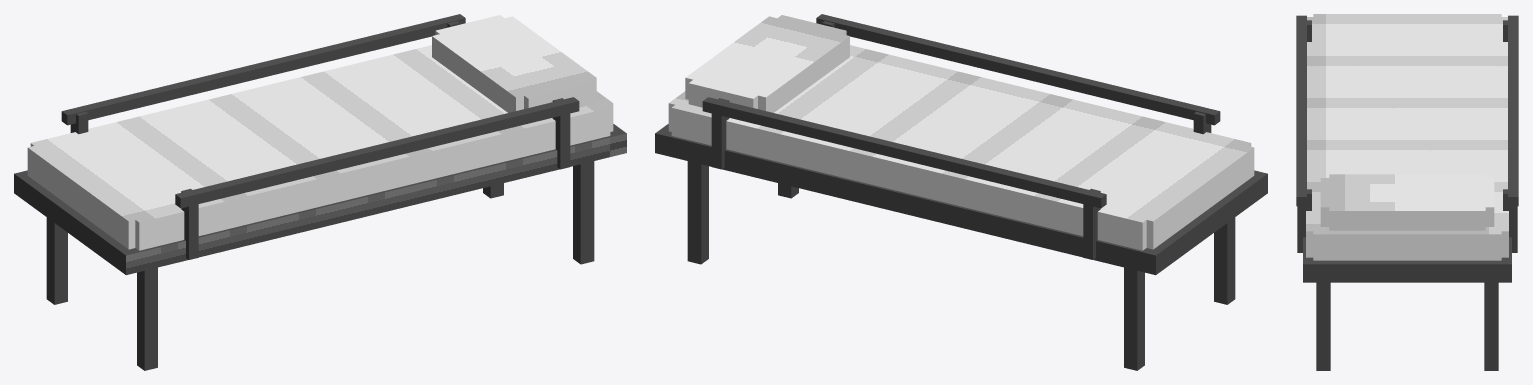
Rendered from station_bed.glb.
3 views of the same model, side by side, from view 1: azimuth 30°, elevation 25°; view 2: azimuth 150°, elevation 25°; view 3: azimuth 270°, elevation 25° (orthographic). The views are drawn at different scales.
Parts seen in each view (by area): view 1: station_bed_Mattress, station_bed_Bed_Frame, station_bed_Pillow; view 2: station_bed_Mattress, station_bed_Bed_Frame, station_bed_Pillow; view 3: station_bed_Mattress, station_bed_Bed_Frame, station_bed_Pillow.
Boxes of the visible parts, <box> form: station_bed_Mattress: <box>27,45,613,250</box>; station_bed_Bed_Frame: <box>14,14,626,370</box>; station_bed_Pillow: <box>432,15,596,112</box>; station_bed_Mattress: <box>668,45,1254,250</box>; station_bed_Bed_Frame: <box>655,14,1267,370</box>; station_bed_Pillow: <box>685,15,849,112</box>; station_bed_Mattress: <box>1306,14,1508,260</box>; station_bed_Bed_Frame: <box>1296,15,1518,370</box>; station_bed_Pillow: <box>1320,174,1494,230</box>.
Size of the model in its own units: 1.86 by 0.625 by 0.766.
Materials: 1 (1 with a texture image).
